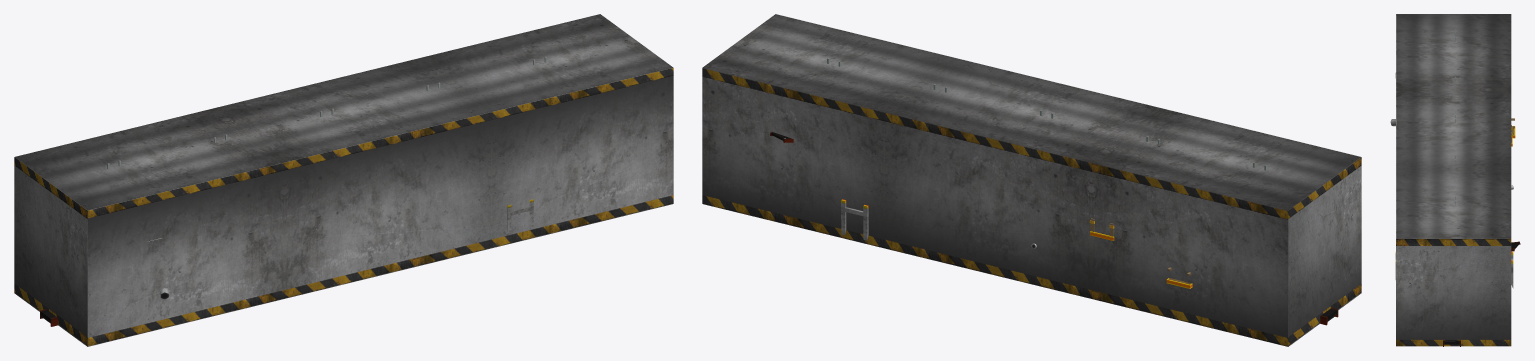
The model's file is FAbrica Exportda.FBX.
3 views of the same model, side by side, from view 1: azimuth 30°, elevation 25°; view 2: azimuth 150°, elevation 25°; view 3: azimuth 270°, elevation 25° (orthographic). The views are drawn at different scales.
Visible parts, largest first — view 1: Escenario; view 2: Escenario, puente1; view 3: Escenario, puente1.
Part boxes in pixels (<box>): Escenario: <box>14,14,673,346</box>; Escenario: <box>702,14,1361,346</box>; puente1: <box>841,199,868,240</box>; Escenario: <box>1396,14,1511,346</box>; puente1: <box>1395,251,1513,288</box>.
Bounding box in the file's own units: 1790 × 411 × 431.
